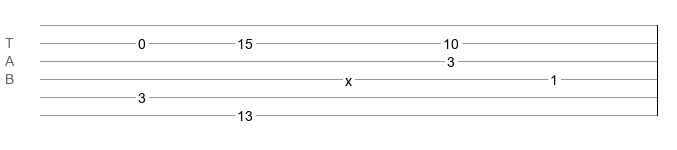0: (138, 36, 146, 46)
1: (550, 72, 558, 82)
10: (443, 36, 459, 46)
13: (237, 108, 253, 118)
15: (237, 36, 253, 46)
3: (138, 90, 146, 100), (447, 54, 455, 64)
x: (345, 73, 352, 81)
